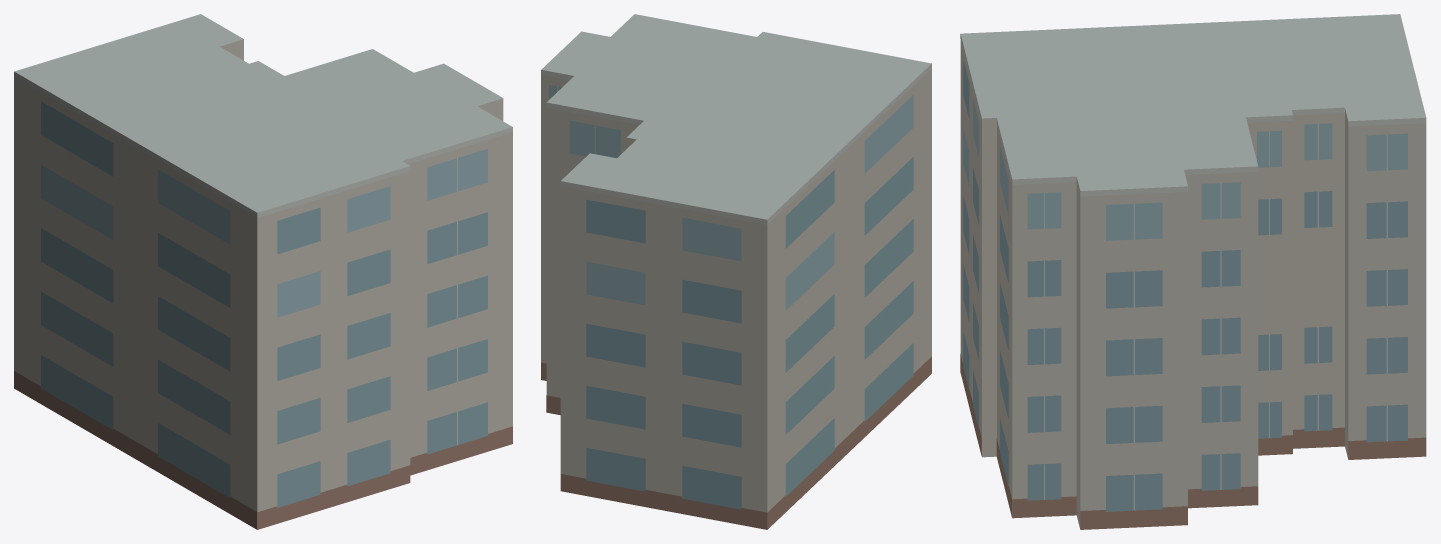
The model's file is survey-upis-33012699.glb.
3 renders of one model, left to right at view 1: azimuth 30°, elevation 25°; view 2: azimuth 150°, elevation 25°; view 3: azimuth 270°, elevation 25°, orthographic. The views are drawn at different scales.
Visible parts, largest first — view 1: survey-upis-33012699.tmp; view 2: survey-upis-33012699.tmp; view 3: survey-upis-33012699.tmp.
Part boxes in pixels (x1,y1,x2,y2): survey-upis-33012699.tmp: (14, 14, 512, 529); survey-upis-33012699.tmp: (541, 14, 931, 529); survey-upis-33012699.tmp: (960, 14, 1426, 529).
Size of the model in its own units: 16.89 by 15.05 by 18.77.
